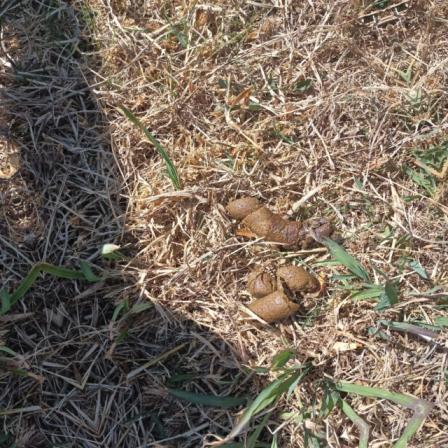dog-poop: (226, 193, 338, 251), (235, 267, 330, 323)
